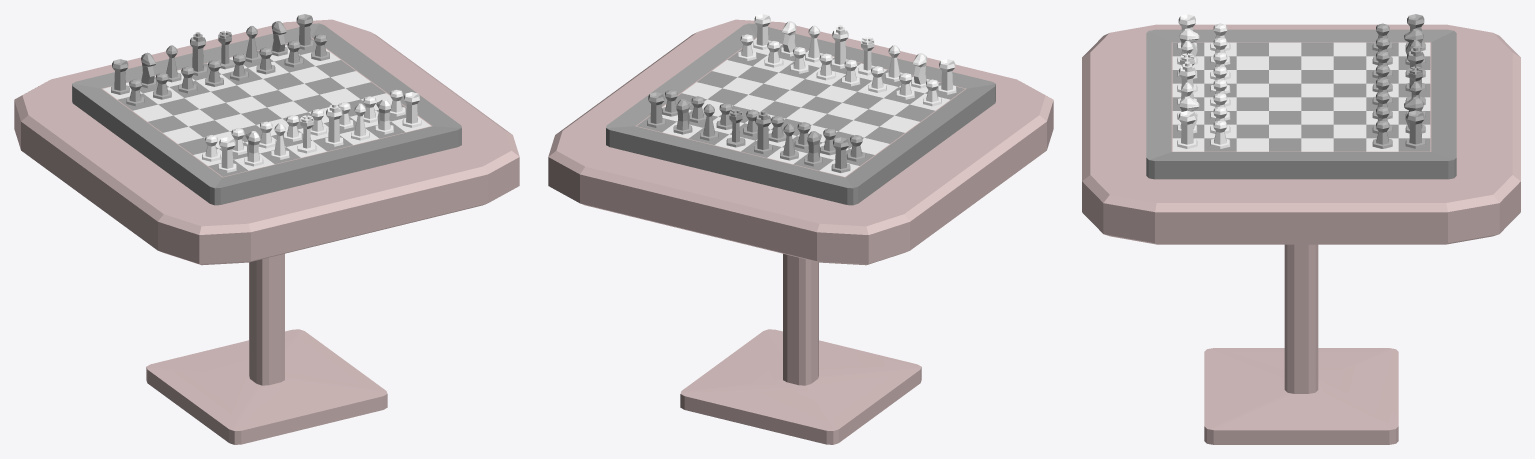
The model's file is chessModified.fbx.
3 renders of one model, left to right at view 1: azimuth 30°, elevation 25°; view 2: azimuth 150°, elevation 25°; view 3: azimuth 270°, elevation 25°, orthographic. The views are drawn at different scales.
Parts seen in each view (by area): view 1: Chesstable.001, Chess 1, Chess 1.009, Chess 1.027, Chess 1.002, Chess 1.033, Chess 1.016; view 2: Chesstable.001, Chess 1, Chess 1.027, Chess 1.009, Chess 1.016, Chess 1.019, Chess 1.033; view 3: Chesstable.001, Chess 1, Chess 1.002, Chess 1.019.
Part boxes in pixels (<box>): Chesstable.001: <box>14,19,519,444</box>; Chess 1: <box>72,23,461,205</box>; Chess 1.009: <box>325,103,343,146</box>; Chess 1.027: <box>190,32,207,75</box>; Chess 1.002: <box>402,92,421,127</box>; Chess 1.033: <box>111,59,129,94</box>; Chess 1.016: <box>218,137,236,172</box>; Chesstable.001: <box>548,19,1053,444</box>; Chess 1: <box>606,23,995,205</box>; Chess 1.027: <box>754,110,772,153</box>; Chess 1.009: <box>831,25,848,68</box>; Chess 1.016: <box>938,59,956,94</box>; Chess 1.019: <box>647,92,665,127</box>; Chess 1.033: <box>831,137,850,172</box>; Chesstable.001: <box>1082,24,1520,444</box>; Chess 1: <box>1146,29,1456,179</box>; Chess 1.002: <box>1177,110,1197,148</box>; Chess 1.019: <box>1405,110,1425,148</box>.
Size of the model in its own units: 0.7813 by 0.6889 by 0.7813.
